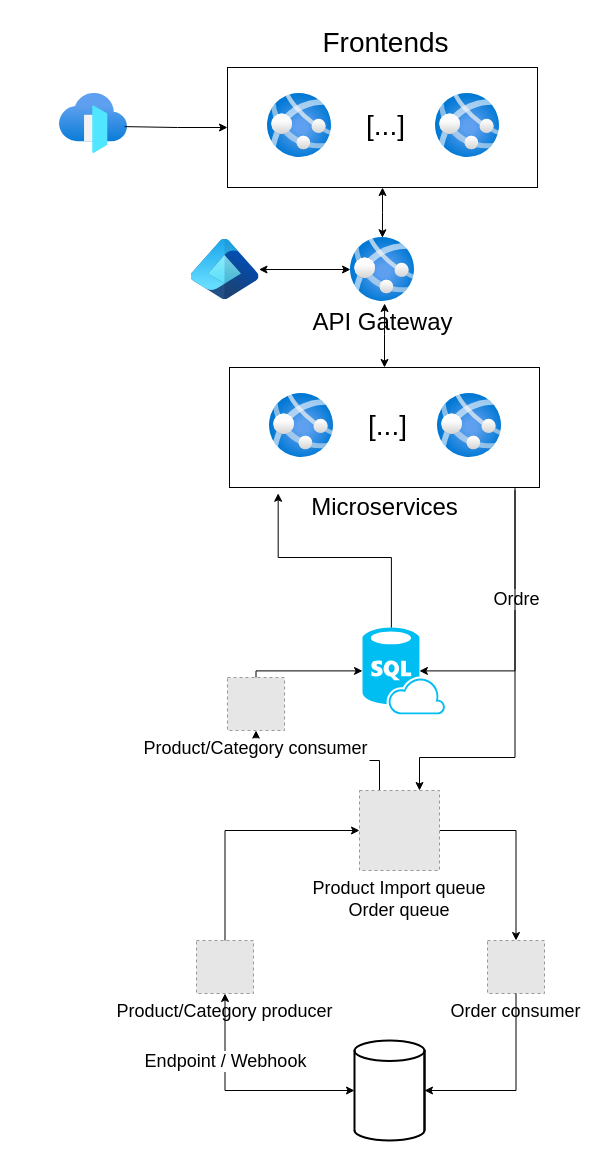
Some shapes in this 599 by 1158 pixel diagram are drawn without their labels. Grey dashed boxes stand in for pictures. The box of each missing label's shape, as (x1, y1, x2, y2) in pixels:
Azure frontdoor CDN/Load balance: (59, 93, 127, 153)
ERP: (353, 1039, 425, 1141)
